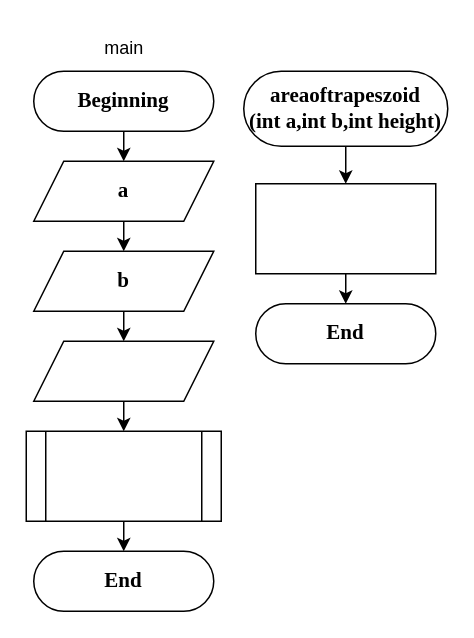
Image size: 474x638. Some labels were removed from this diagram. Each missing label, with the centre of its shape:
"areaoftrapezoid (int a, int b,int heigth)" goes at [123,475].
"height" goes at [123,370].
"return 0.5 * (a + b) * height" goes at [345,228].
